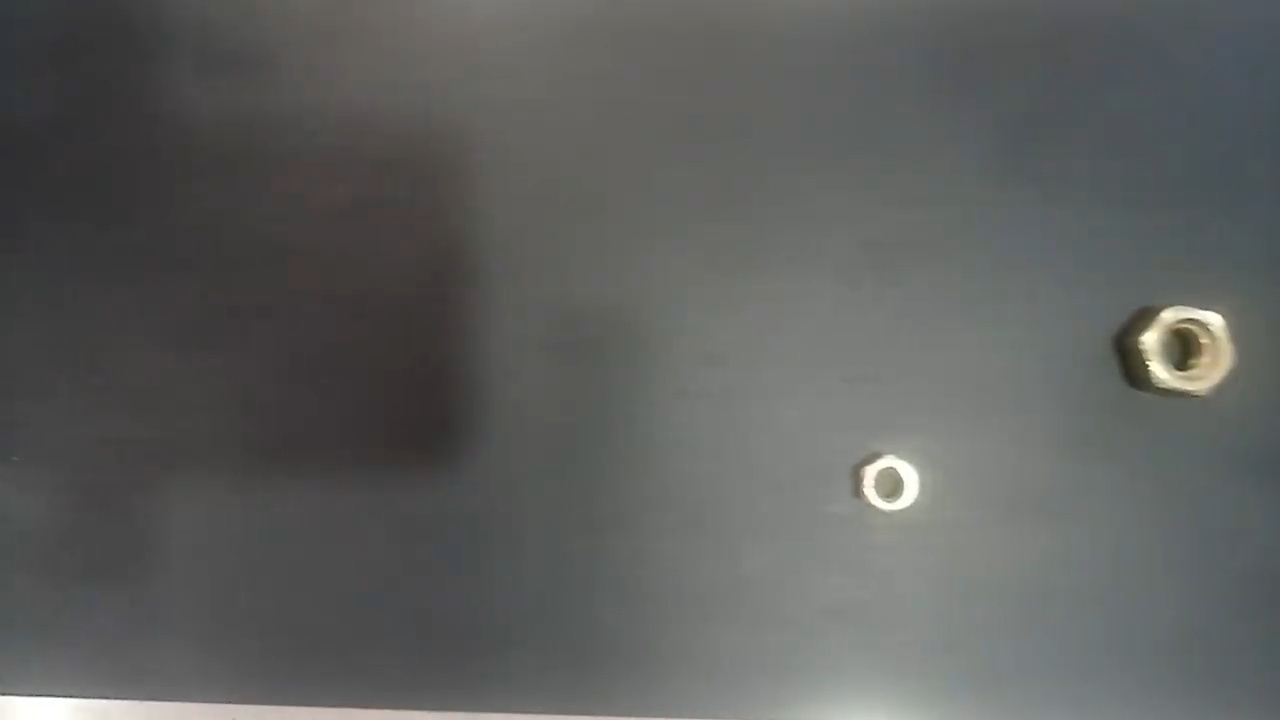Bolt: (1126, 304, 1243, 401), (855, 453, 920, 516)
